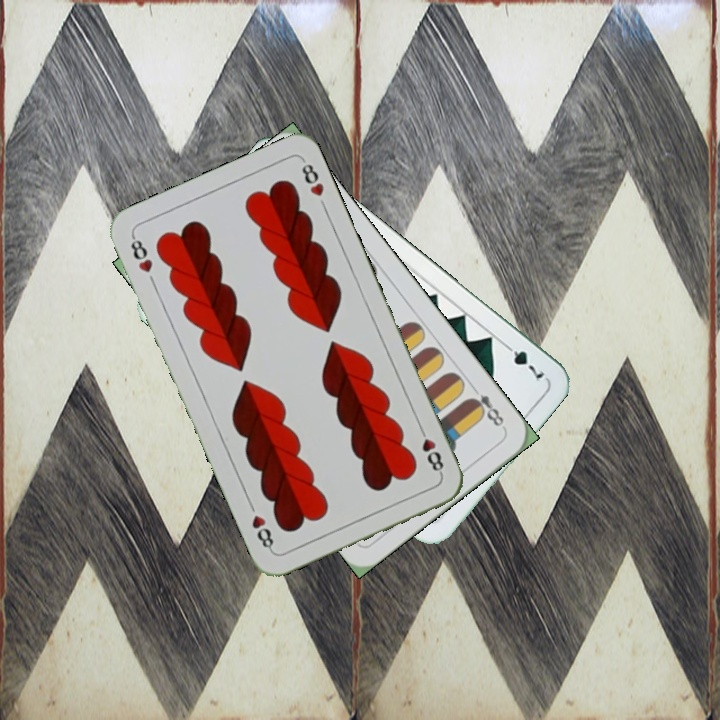E8: (464, 381, 508, 432)
G7: (499, 338, 547, 386)
H8: (414, 422, 447, 478), (126, 232, 155, 276)
